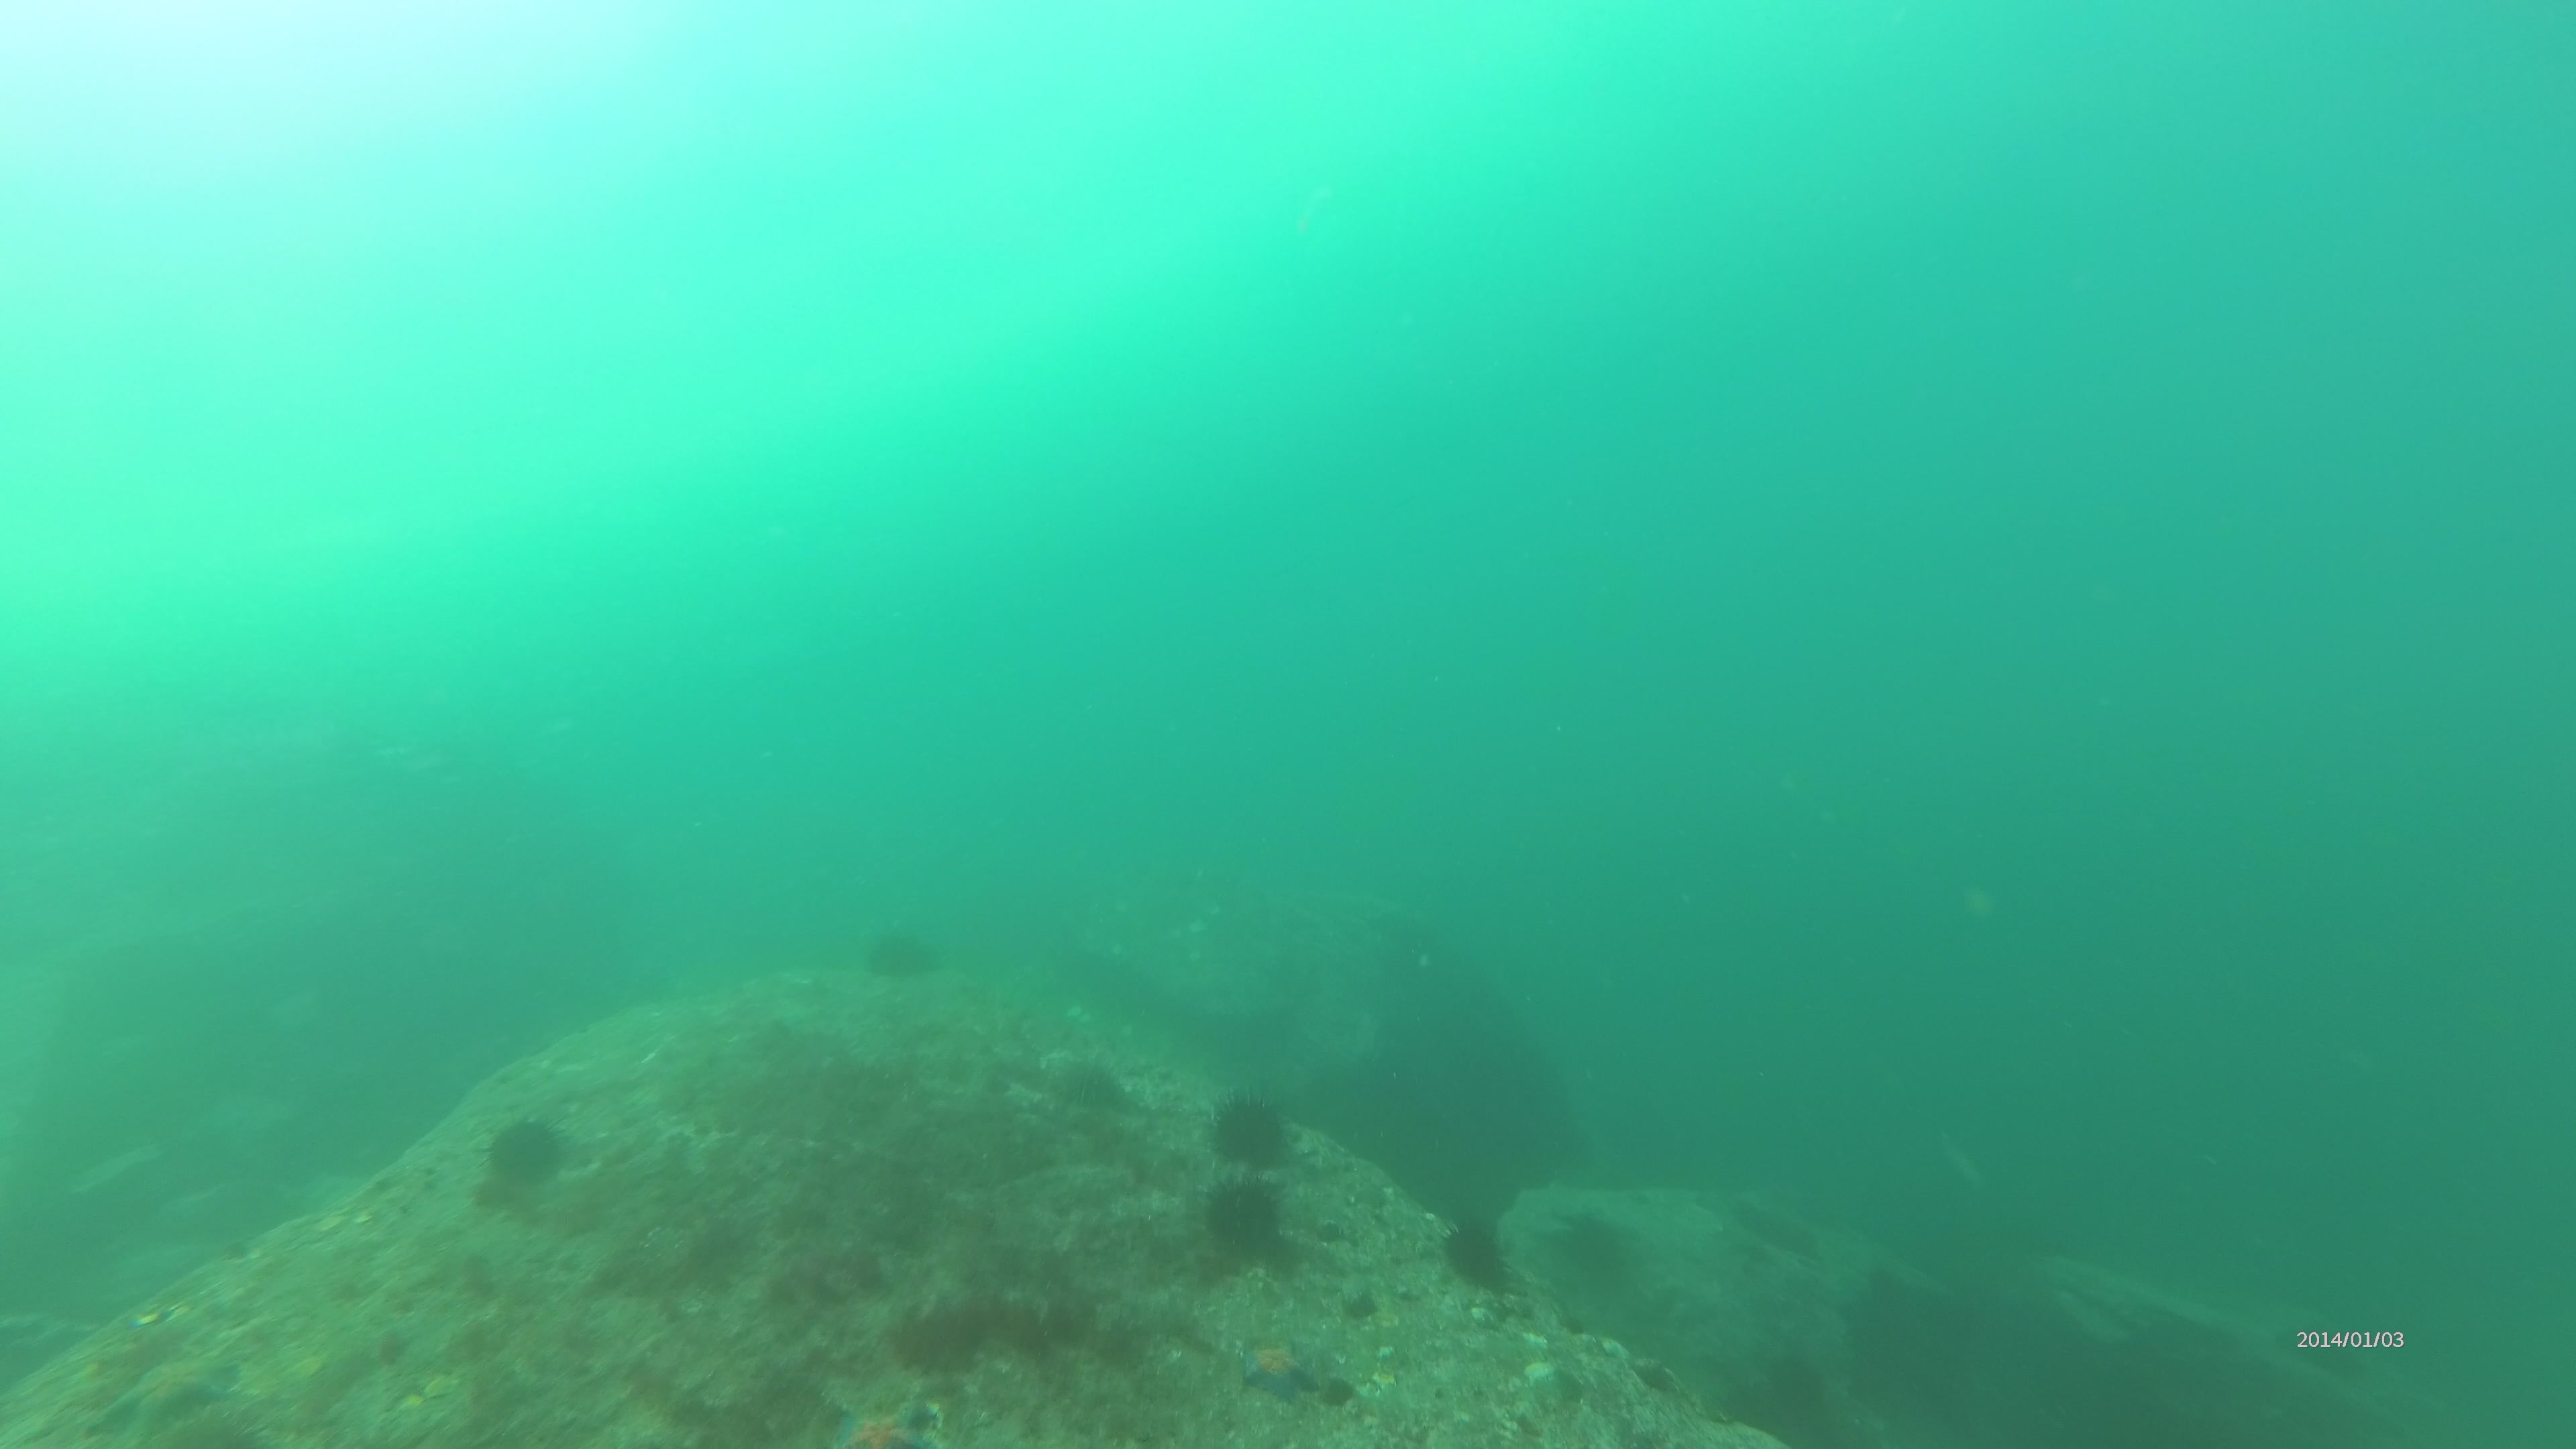echinus: (1182, 1157, 1299, 1263), (1426, 1201, 1518, 1307), (1203, 1088, 1302, 1177), (485, 1113, 570, 1191), (863, 922, 952, 989)
starfish: (74, 1338, 244, 1437), (1223, 1327, 1330, 1405), (819, 1392, 964, 1449)
